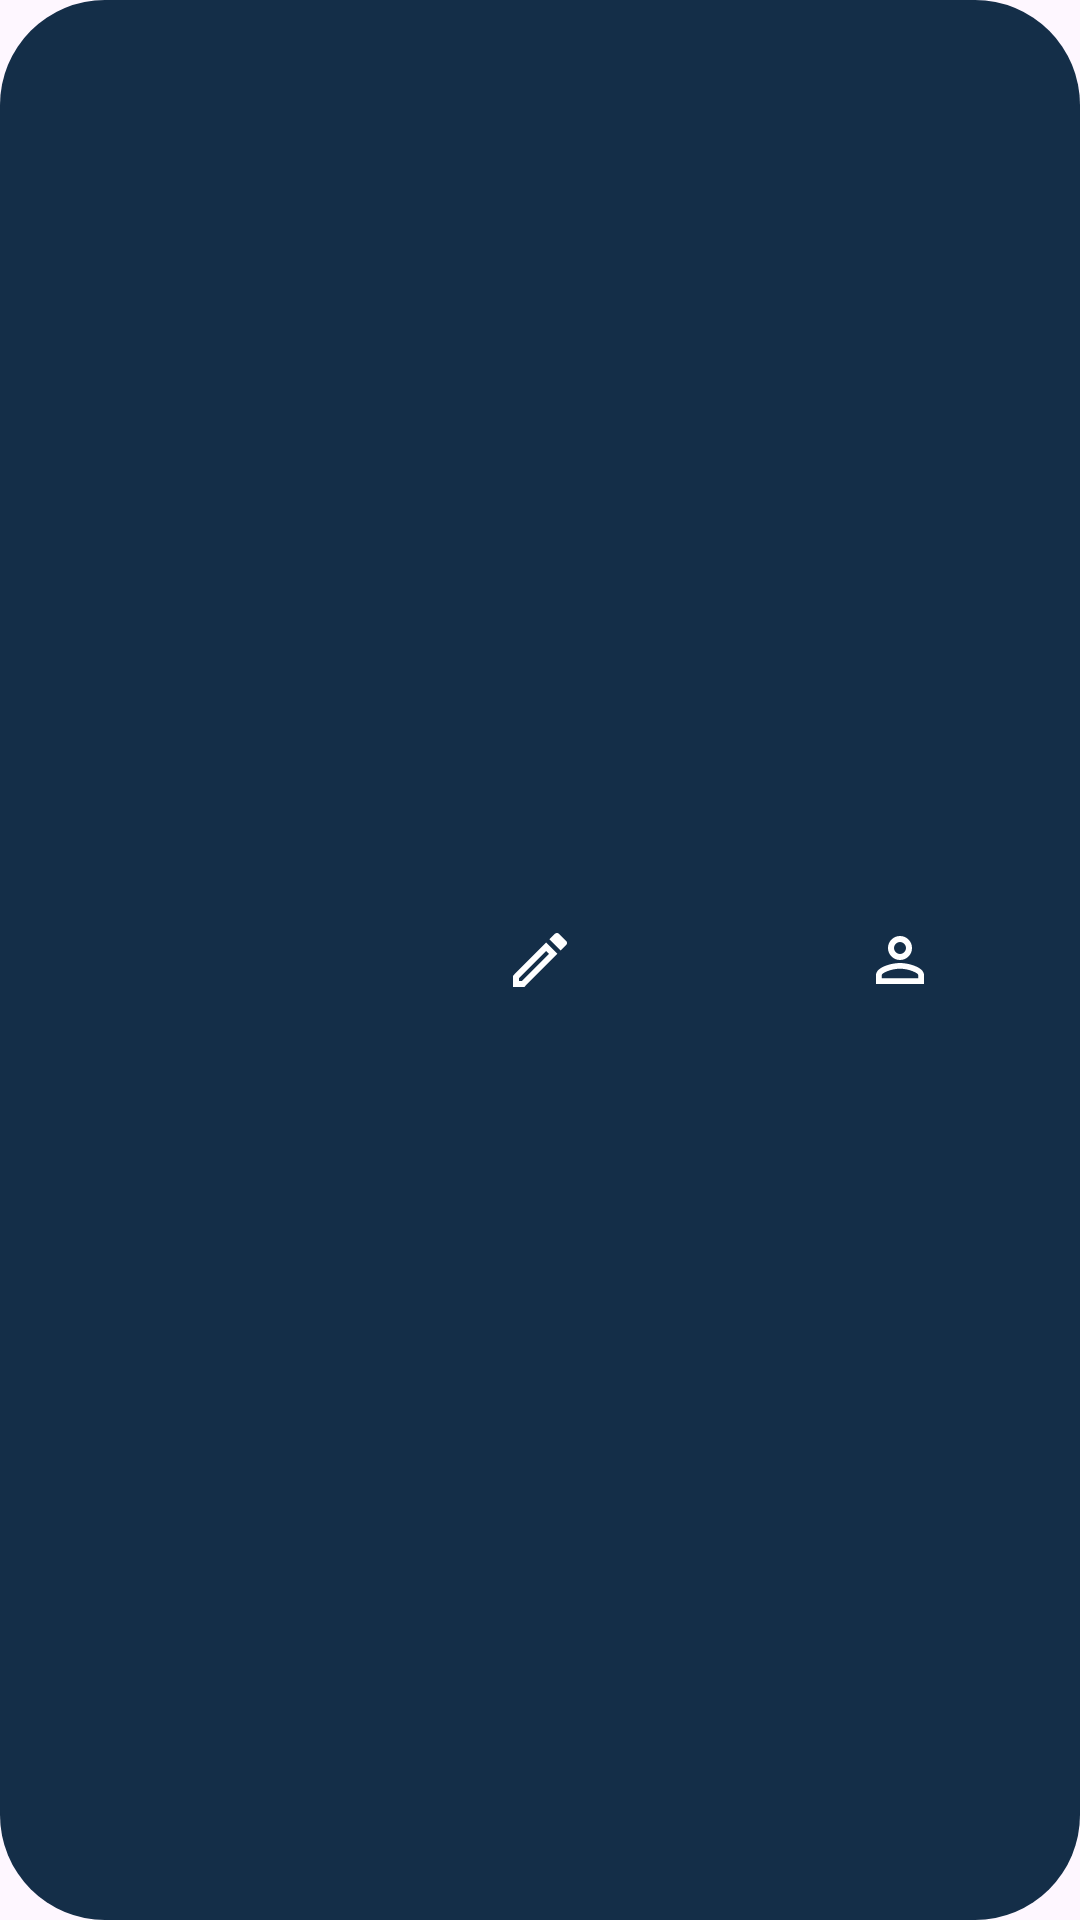

Icons on this 1080 x 1920 Android screen, each with its box as [x1=x1, y1=y1, x2=x2, y2=y2]:
post: [x1=513, y1=933, x2=567, y2=987]
profile: [x1=876, y1=936, x2=924, y2=984]
